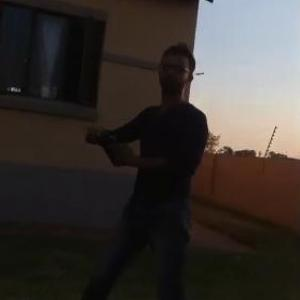follow: (76, 40, 222, 299)
